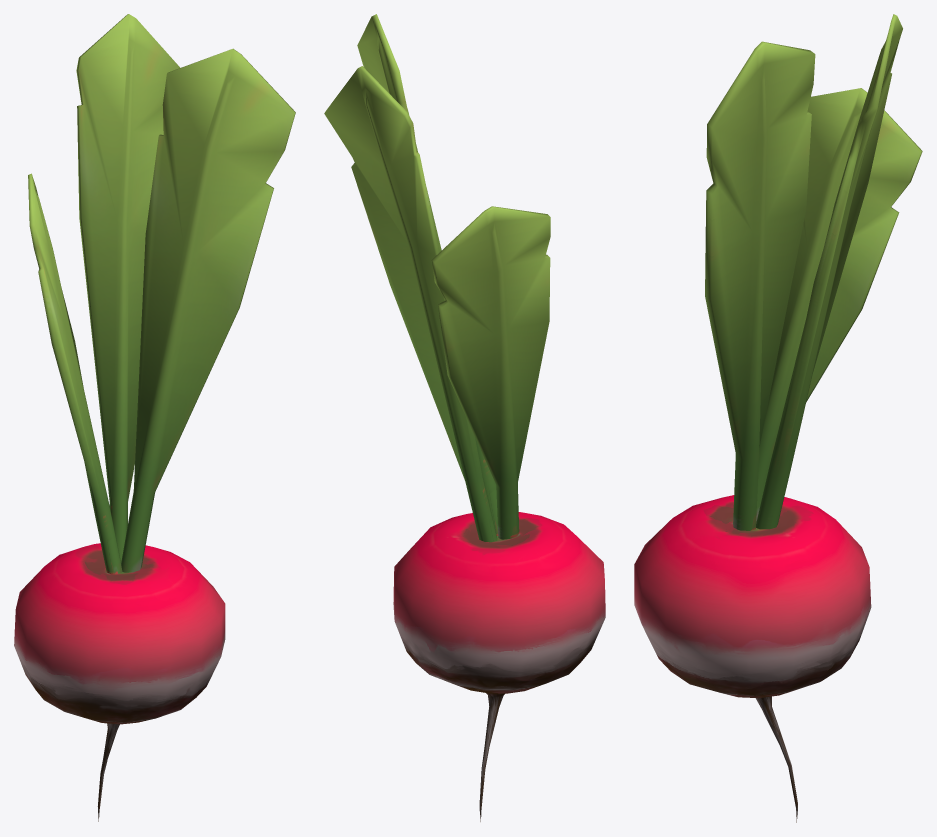
Rendered from Biet(M).fbx.
3 renders of one model, left to right at view 1: azimuth 30°, elevation 25°; view 2: azimuth 150°, elevation 25°; view 3: azimuth 270°, elevation 25°, orthographic. The views are drawn at different scales.
Visible parts, largest first — view 1: Radish; view 2: Radish; view 3: Radish.
Part boxes in pixels (left/top/right/bottom): Radish: left=14, top=14, right=295, bottom=821; Radish: left=324, top=14, right=605, bottom=821; Radish: left=634, top=14, right=922, bottom=822.
Size of the model in its own units: 15.19 by 44.06 by 13.56.
